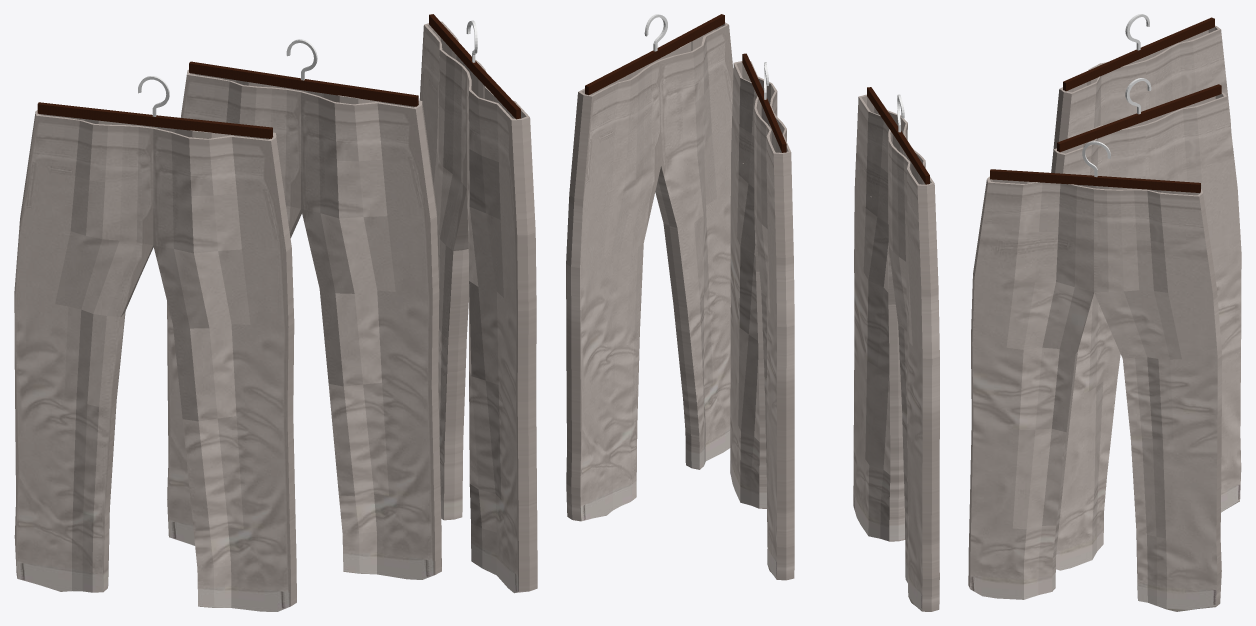
Rendered from chinocream2.glb.
The picture shows the model from 3 angles, left to right: view 1: azimuth 30°, elevation 25°; view 2: azimuth 150°, elevation 25°; view 3: azimuth 270°, elevation 25°; orthographic projection. The views are drawn at different scales.
Visible parts, largest first — view 1: Plane.350; view 2: Plane.350; view 3: Plane.350.
Part boxes in pixels (left/top/right/bottom): Plane.350: left=14, top=14, right=537, bottom=611; Plane.350: left=566, top=14, right=939, bottom=611; Plane.350: left=968, top=14, right=1241, bottom=611.
Size of the model in its own units: 0.3933 by 0.4706 by 0.2533.
3 materials, 3 textured.
